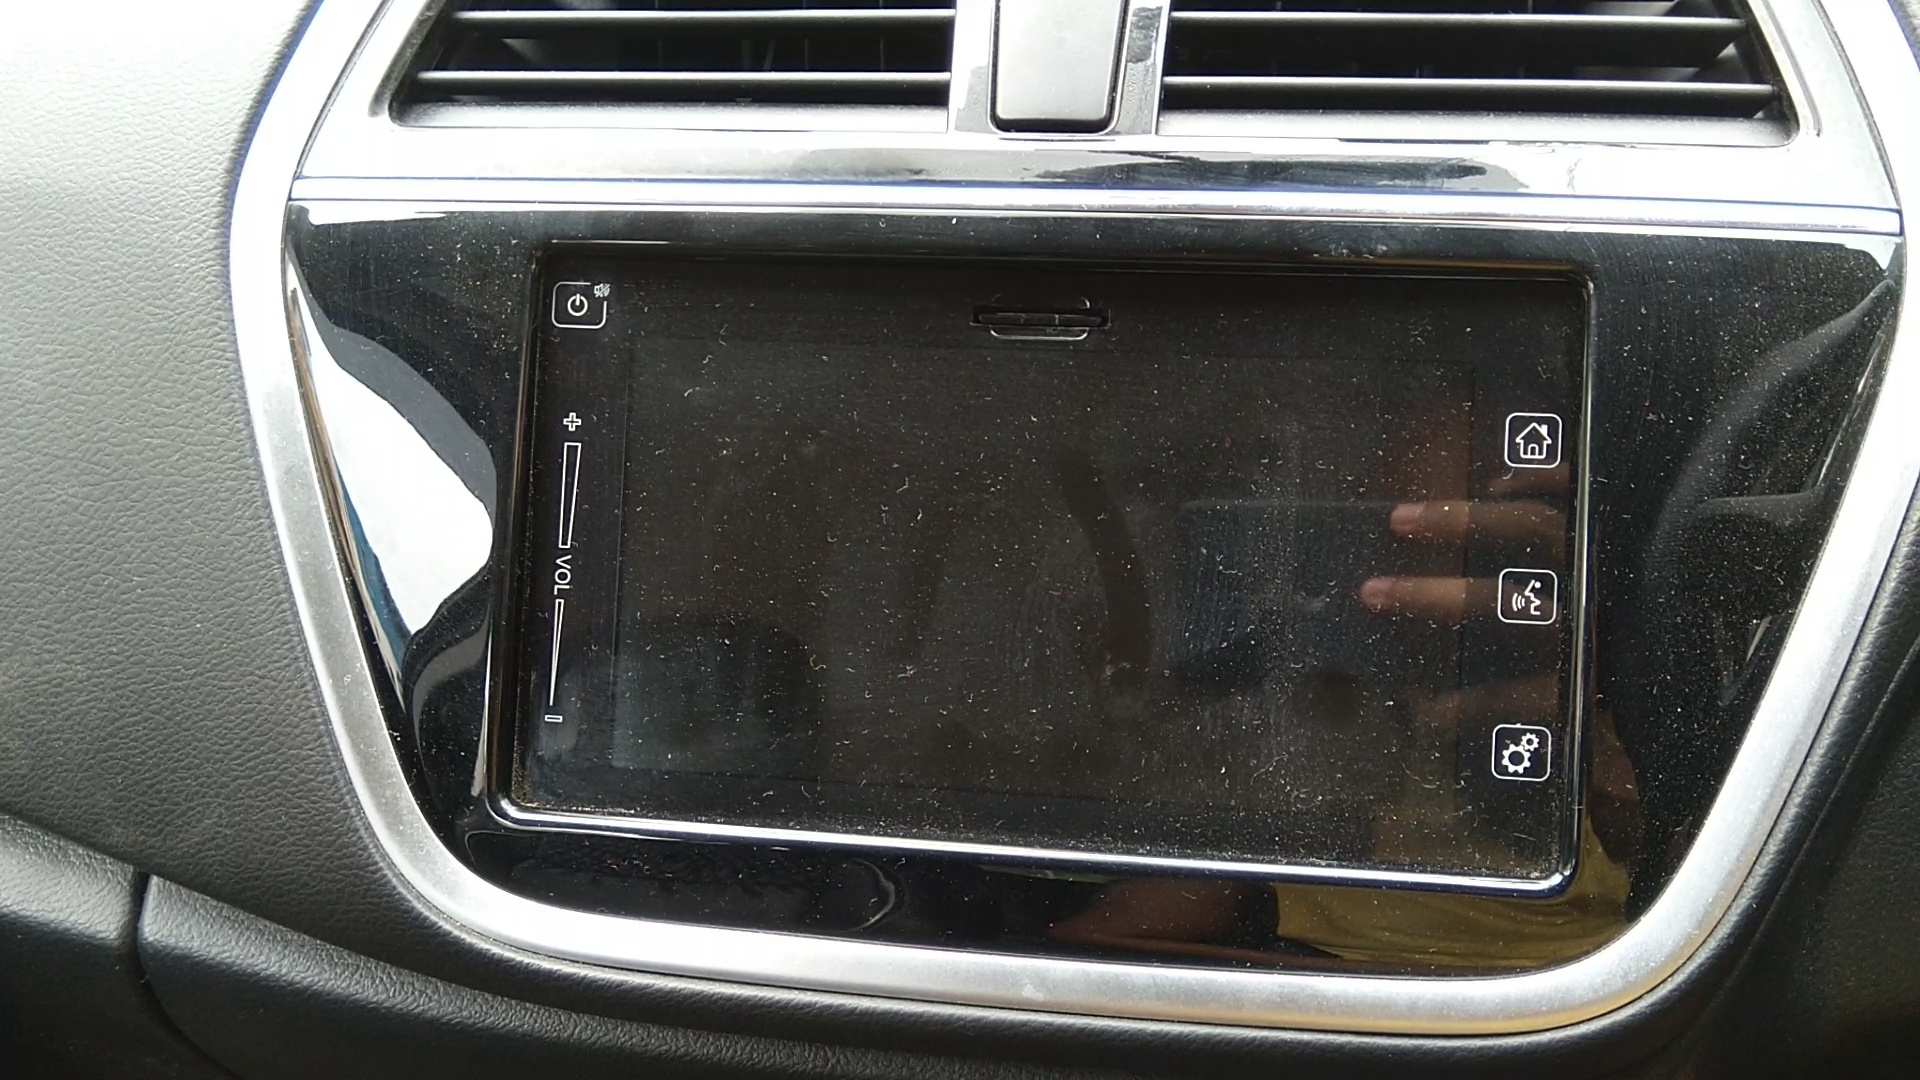touch_infotainment: (454, 218, 1609, 913)
